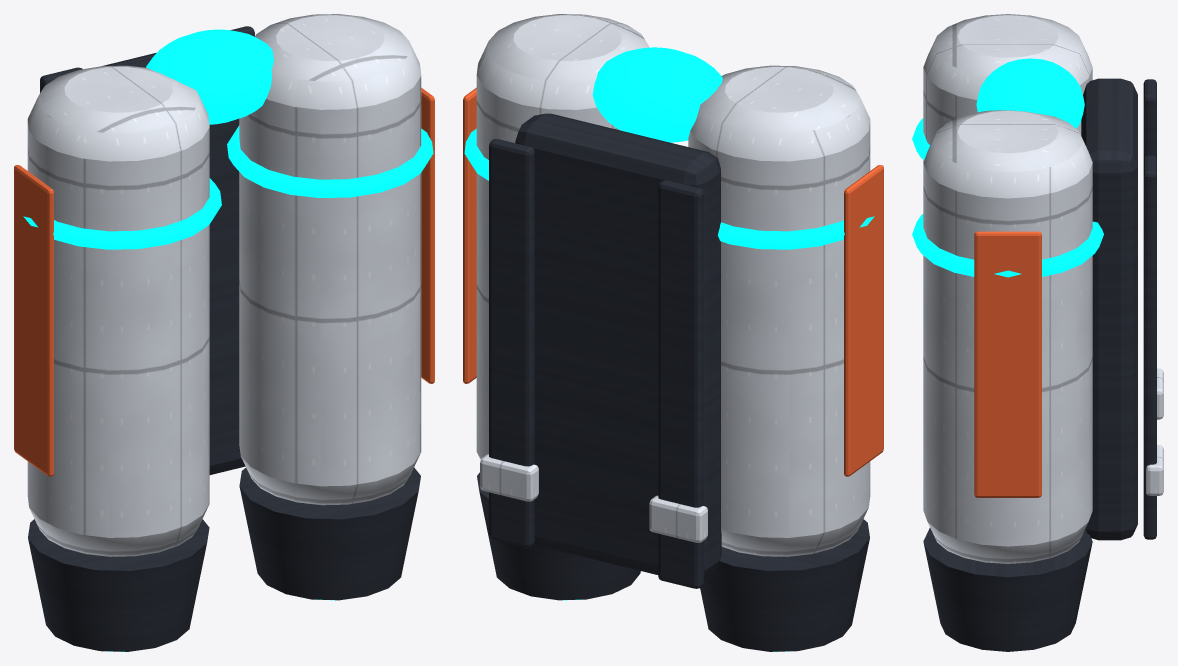
Rendered from backpack_jet_canister.glb.
3 views of the same model, side by side, from view 1: azimuth 30°, elevation 25°; view 2: azimuth 150°, elevation 25°; view 3: azimuth 270°, elevation 25° (orthographic). The views are drawn at different scales.
Parts seen in each view (by area): view 1: backpack_jet_canister; view 2: backpack_jet_canister; view 3: backpack_jet_canister.
Boxes of the visible parts, box(x1,y1,x2,y2) form: backpack_jet_canister: box(14, 14, 434, 651); backpack_jet_canister: box(463, 14, 883, 651); backpack_jet_canister: box(912, 14, 1163, 651).
Bounding box in the file's own units: 0.37 × 0.503 × 0.223.
Materials: 4 (2 with a texture image).
